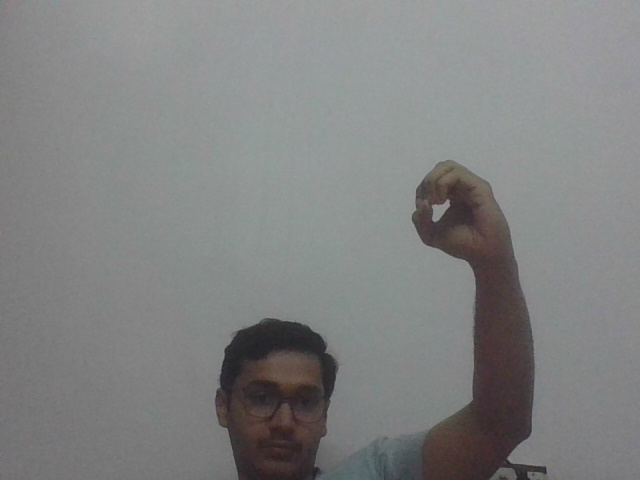O: (406, 153, 517, 264)
